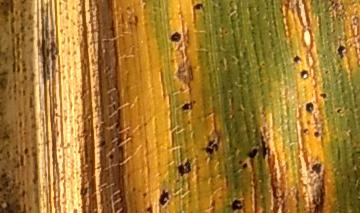tarspot: (259, 133, 272, 161), (176, 158, 193, 176), (203, 138, 219, 155), (245, 147, 259, 162), (311, 160, 321, 181), (158, 187, 169, 206), (229, 198, 244, 211), (180, 99, 197, 110), (168, 31, 183, 43), (289, 53, 303, 65), (298, 68, 310, 82), (304, 101, 316, 115), (336, 43, 346, 59), (96, 140, 107, 150), (193, 2, 203, 12), (318, 91, 327, 101), (259, 60, 266, 71), (312, 129, 320, 138), (301, 126, 309, 135), (240, 162, 249, 170), (141, 190, 148, 199), (144, 206, 154, 212), (335, 107, 342, 115), (107, 153, 114, 161), (222, 29, 229, 36), (129, 186, 136, 193), (237, 158, 243, 166)
